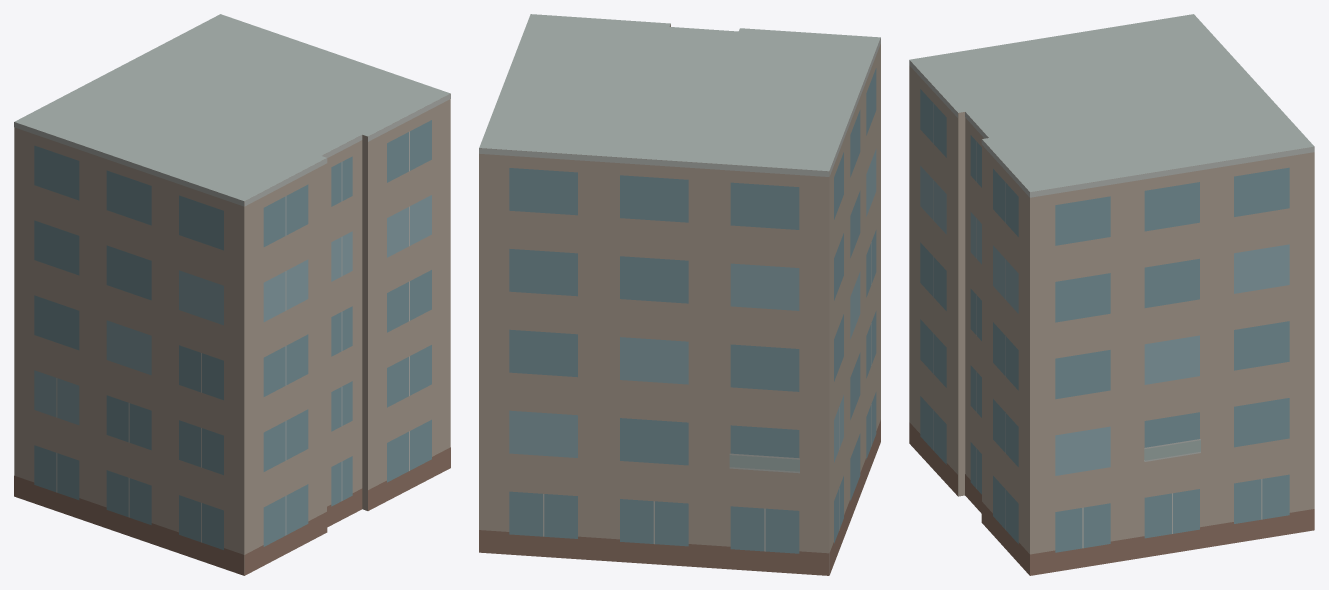
Rendered from survey-upis-32859762.glb.
3 renders of one model, left to right at view 1: azimuth 30°, elevation 25°; view 2: azimuth 150°, elevation 25°; view 3: azimuth 270°, elevation 25°, orthographic. The views are drawn at different scales.
Parts seen in each view (by area): view 1: survey-upis-32859762.tmp; view 2: survey-upis-32859762.tmp; view 3: survey-upis-32859762.tmp.
Part boxes in pixels (x1,y1,x2,y2): survey-upis-32859762.tmp: (14, 14, 450, 575); survey-upis-32859762.tmp: (479, 14, 880, 575); survey-upis-32859762.tmp: (909, 14, 1314, 575).
Size of the model in its own units: 16.85 by 16.9 by 16.19.
